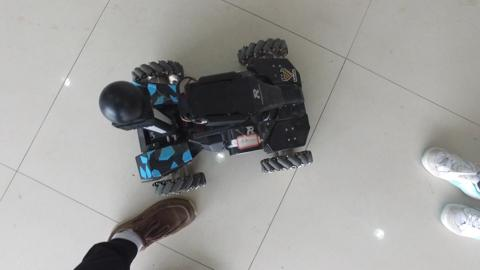chariot: (113, 29, 298, 195)
